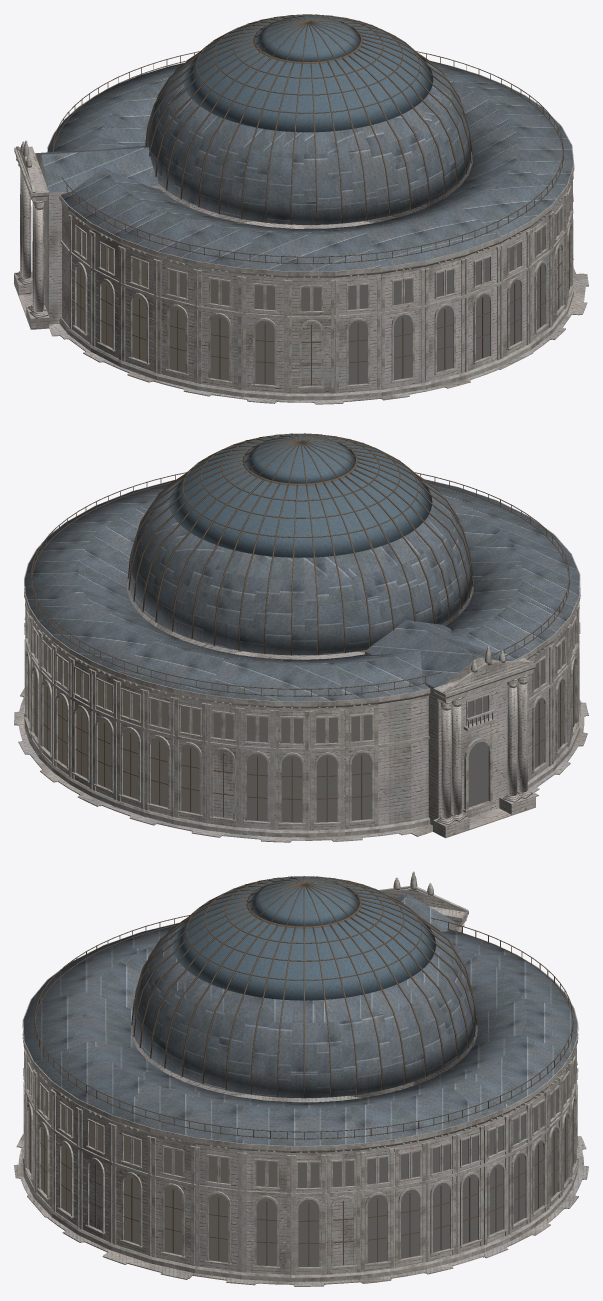
Rendered from bourse-de-commerce.glb.
The picture shows the model from 3 angles, top to bottom: view 1: azimuth 30°, elevation 25°; view 2: azimuth 150°, elevation 25°; view 3: azimuth 270°, elevation 25°; orthographic projection. The views are drawn at different scales.
Parts seen in each view (by area): view 1: roof, stone, trim, glass, metal, window; view 2: roof, trim, stone, glass, window, metal; view 3: roof, trim, stone, glass, window, metal.
Boxes of the visible parts, x1=… form: roof: x1=36, y1=58, x2=573, y2=271; stone: x1=14, y1=148, x2=588, y2=404; trim: x1=14, y1=62, x2=574, y2=400; glass: x1=183, y1=15, x2=433, y2=132; metal: x1=52, y1=14, x2=570, y2=385; window: x1=76, y1=208, x2=570, y2=385; roof: x1=25, y1=480, x2=579, y2=701; trim: x1=23, y1=479, x2=581, y2=837; stone: x1=14, y1=579, x2=588, y2=842; glass: x1=168, y1=434, x2=432, y2=557; window: x1=28, y1=622, x2=575, y2=822; metal: x1=27, y1=433, x2=575, y2=821; roof: x1=23, y1=894, x2=577, y2=1145; trim: x1=22, y1=871, x2=578, y2=1281; stone: x1=14, y1=889, x2=588, y2=1286; glass: x1=172, y1=877, x2=435, y2=1000; window: x1=28, y1=1062, x2=574, y2=1266; metal: x1=28, y1=876, x2=574, y2=1266.
Bounding box in the file's own units: 69.27 × 36.3 × 67.18.
Materials: 6 (6 with a texture image).
